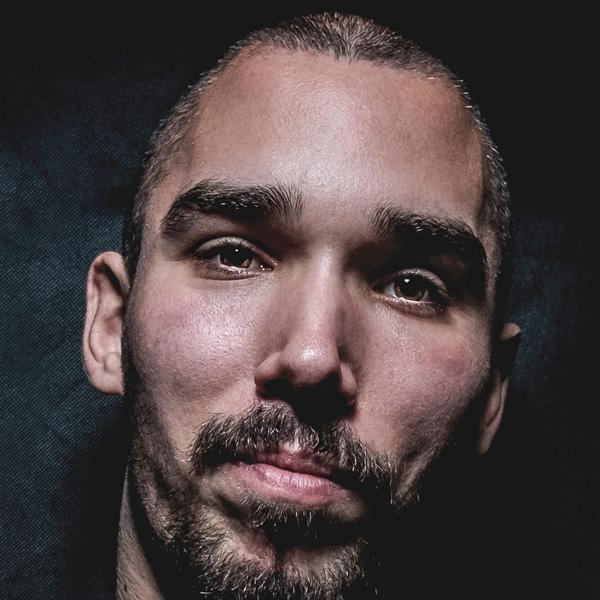Eyes: (362, 254, 460, 327), (184, 220, 281, 291)
